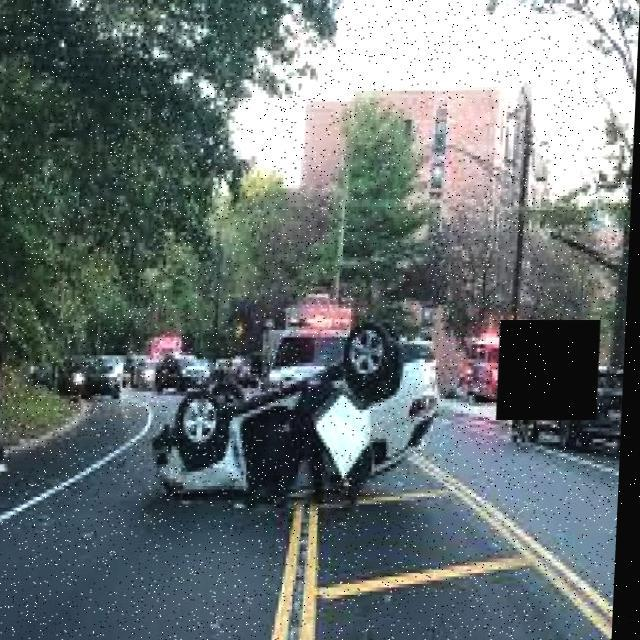single accident: (117, 300, 459, 518)
